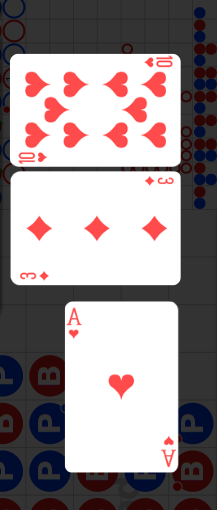10H: (142, 55, 174, 70)
3D: (19, 270, 51, 282)
AH: (159, 433, 176, 468)
